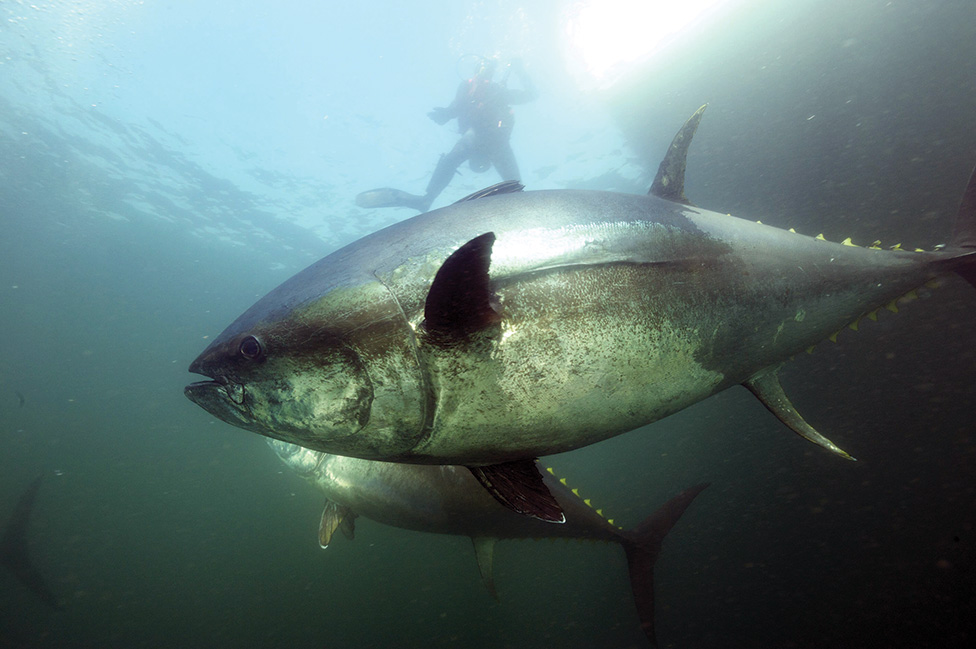Bluefina Tuna: (182, 109, 972, 487)
